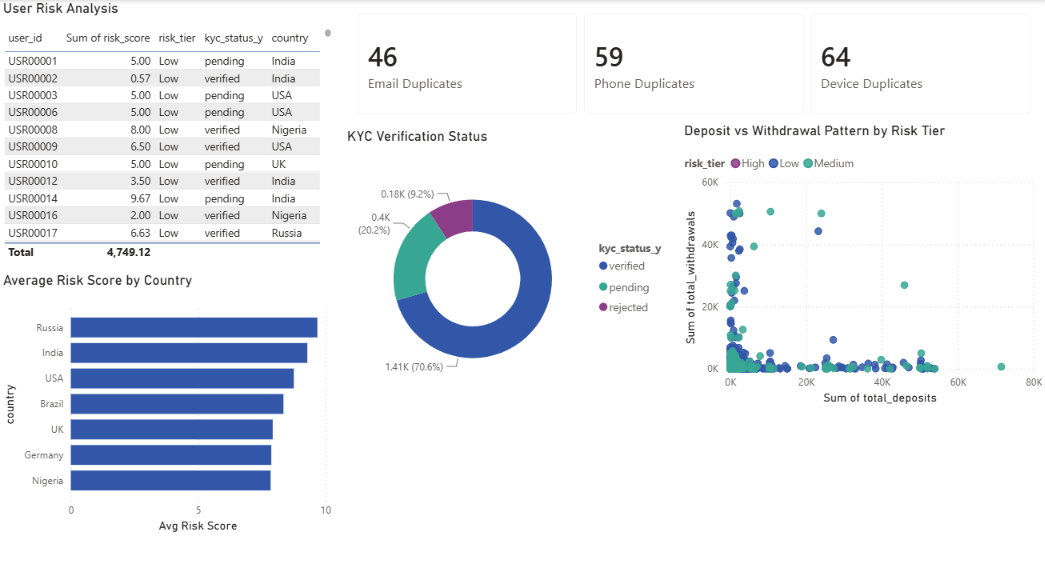

The dashboard page shown, as its layout file describes it:
{"tool":"powerbi","page":{"name":"User Risk Analysis","canvas":[1280,720],"ordinal":2},"visuals":[{"type":"tableEx","title":"User Risk Analysis","fields":{"Values":["users_risk_scored.user_id","Sum(users_risk_scored.risk_score)","users_risk_scored.risk_tier","users_risk_scored.kyc_status_y","users_risk_scored.country"]},"box":[0,0,411.2,322.5],"z":0},{"type":"barChart","title":"Average Risk Score by Country","fields":{"Category":["users_risk_scored.country"],"Y":["users_risk_scored.Avg Risk Score"]},"box":[0,333,411,323],"z":1},{"type":"donutChart","title":"KYC Verification Status","fields":{"Category":["users_risk_scored.kyc_status_y"],"Y":["CountNonNull(users_risk_scored.user_id)"]},"box":[421.2,156.2,411.2,338.8],"z":2},{"type":"cardVisual","fields":{"Data":["users_risk_scored.Email Duplicates","users_risk_scored.Phone Duplicates","users_risk_scored.Device Duplicates"]},"box":[421.2,0,858.8,156.2],"z":3},{"type":"scatterChart","title":"Deposit vs Withdrawal Pattern by Risk Tier","fields":{"X":["Sum(users_risk_scored.total_deposits)"],"Y":["Sum(users_risk_scored.total_withdrawals)"],"Category":["users_risk_scored.user_id"],"Series":["users_risk_scored.risk_tier"]},"box":[832.5,148.8,447.5,350],"z":4}]}

Visuals, with their boxes on the page's 1280x720 design canvas (x1, y1, x2, y2). These are canvas units, not pixel positions in the 1045x564 screenshot, which may show the page scaled, cropped or inside an application window:
"User Risk Analysis" tableEx: box=[0, 0, 411, 322]
"Average Risk Score by Country" barChart: box=[0, 333, 411, 656]
"KYC Verification Status" donutChart: box=[421, 156, 832, 495]
cardVisual - users_risk_scored.Email Duplicates x users_risk_scored.Phone Duplicates: box=[421, 0, 1280, 156]
"Deposit vs Withdrawal Pattern by Risk Tier" scatterChart: box=[832, 149, 1280, 499]
